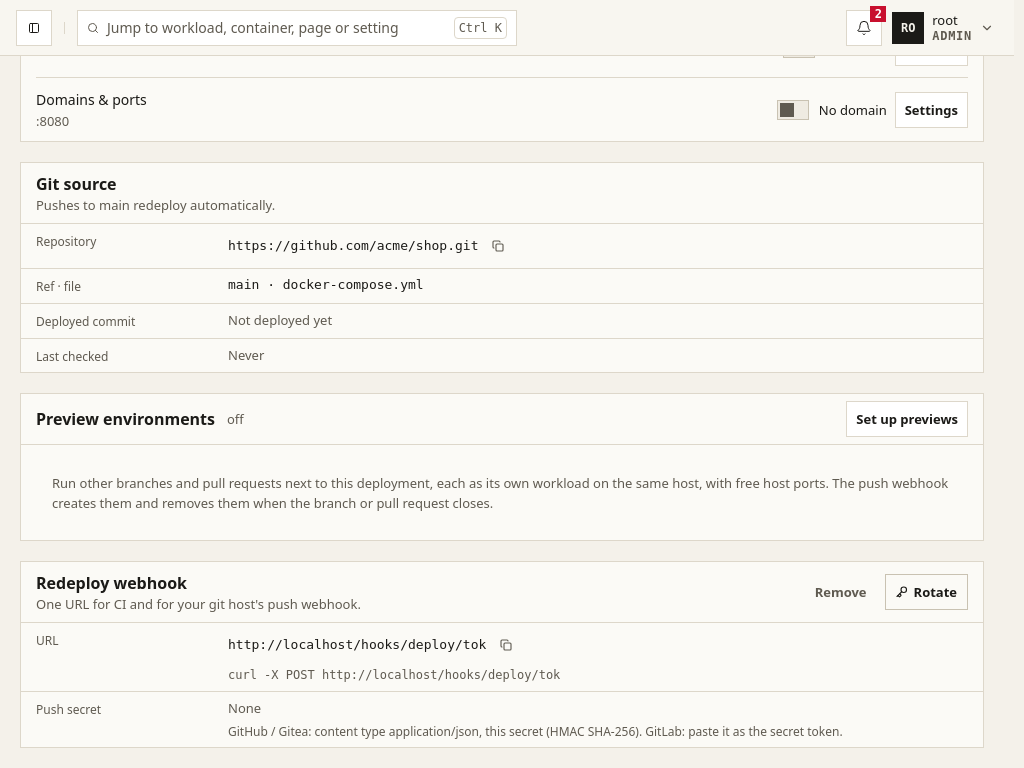
Scenario: preview environments panel › sets previews up, keeping the rest of the git source
This screenshot has width=1024, height=768.
(page scrolled)
Check: the text "Run other branches and pull requests" is shown, box [52,474,948,512]
Check: the text "off" is shown, box [227,409,244,429]
Click the button "Set up previews" at (907, 419), box [846,401,968,437]
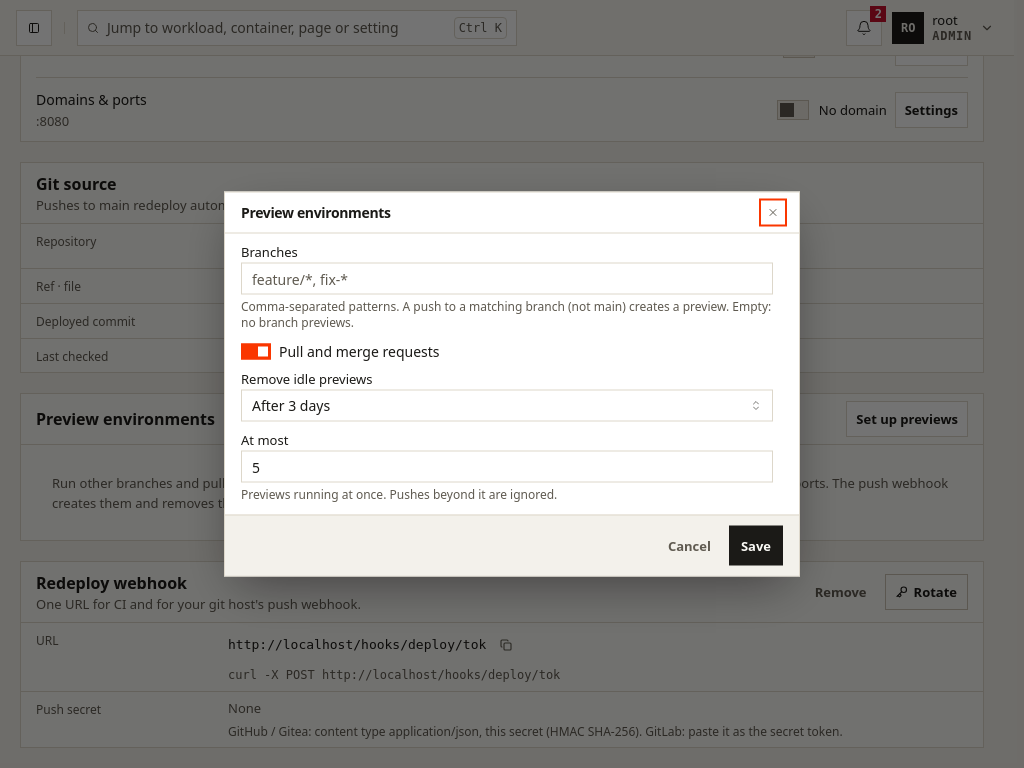
Click the switch labelled "Pull and merge requests" at (340, 351), box [241,342,440,360]
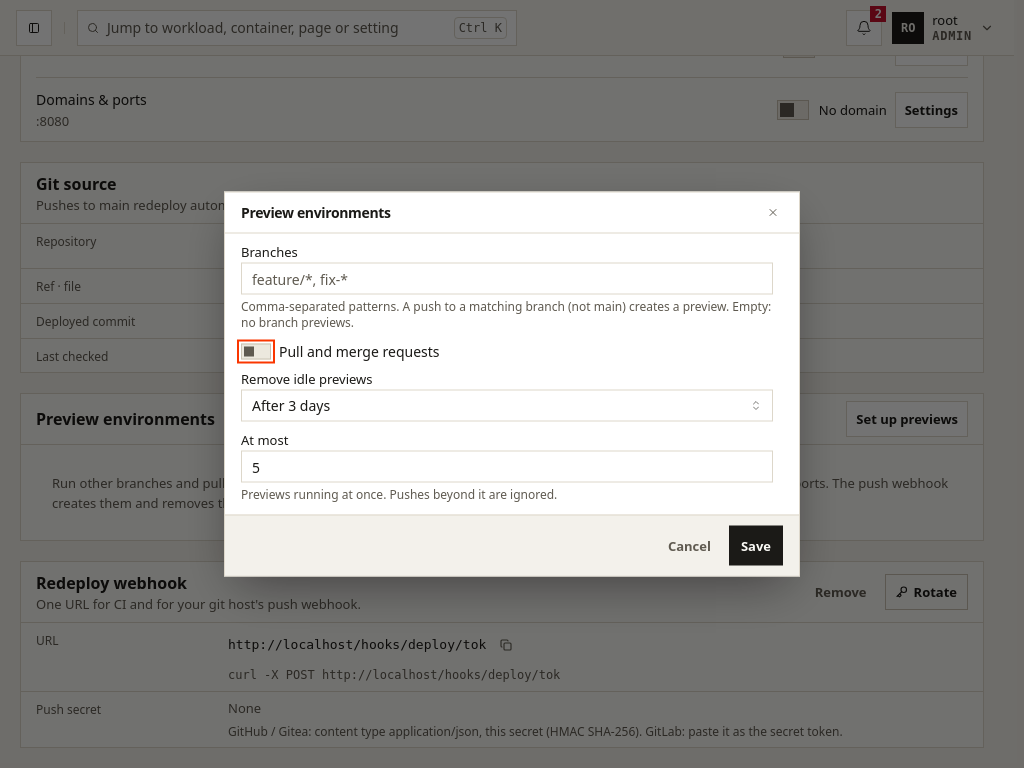
Click the button "Save" at (756, 546), box [729,526,783,566]
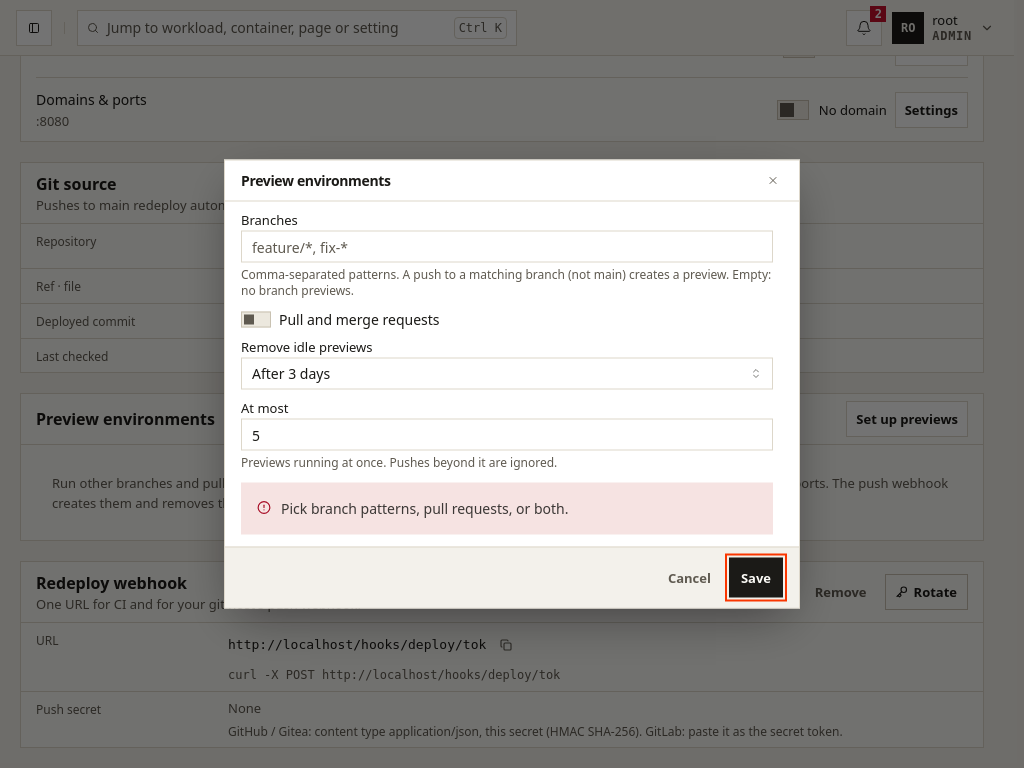
Check: the text "Pick branch patterns, pull requests, or both." is shown, box [281,498,568,518]
Type " feature/*, fix-* " into the field labelled "Branches" at (507, 246), box [241,230,773,262]
Click the dropdown named "Remove idle previews" at (291, 373), box [241,358,773,390]
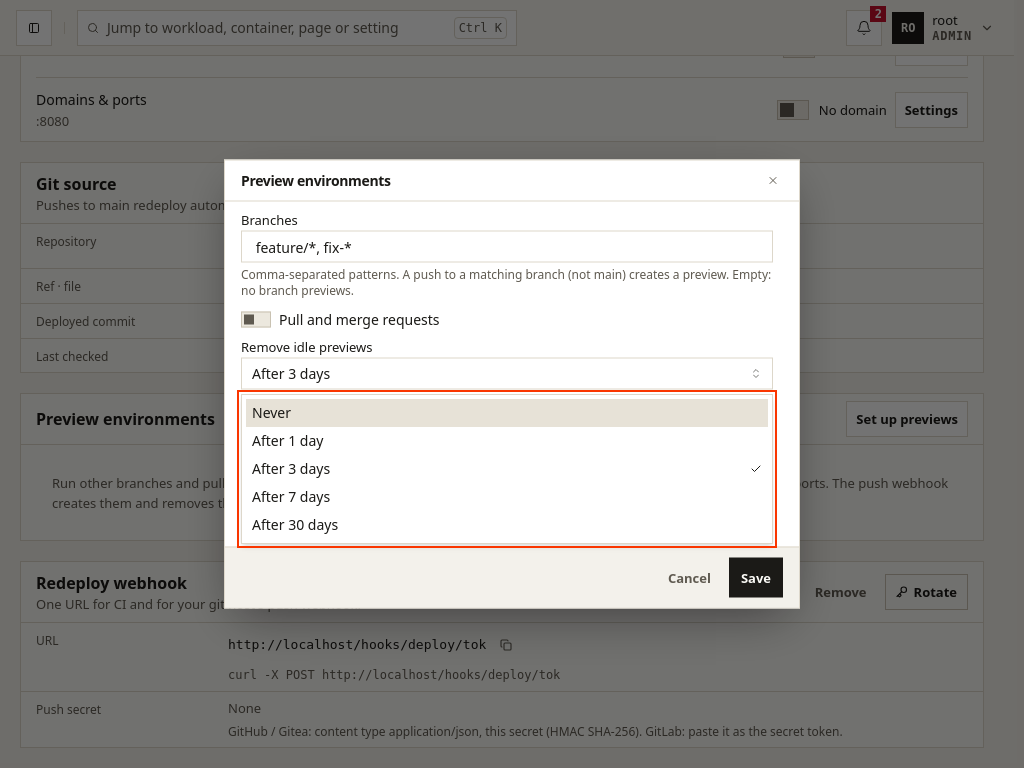
Click the option "After 7 days" at (291, 496), box [252,487,330,506]
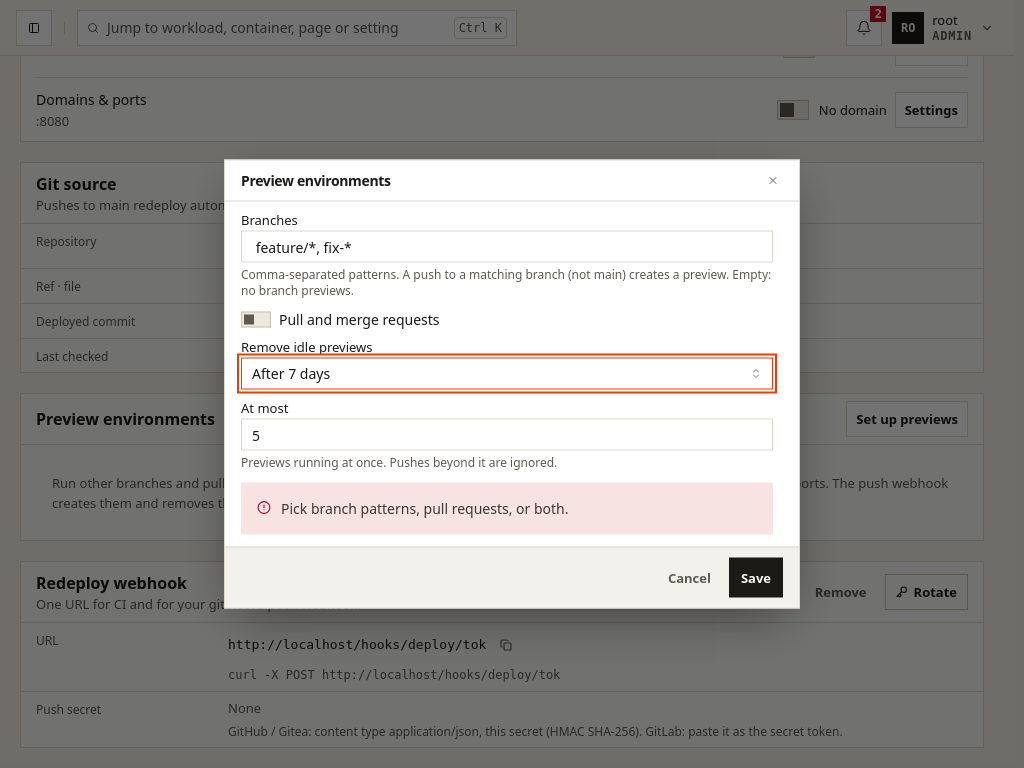
Click the button "Save" at (756, 578), box [729,558,783,598]
(page scrolled)
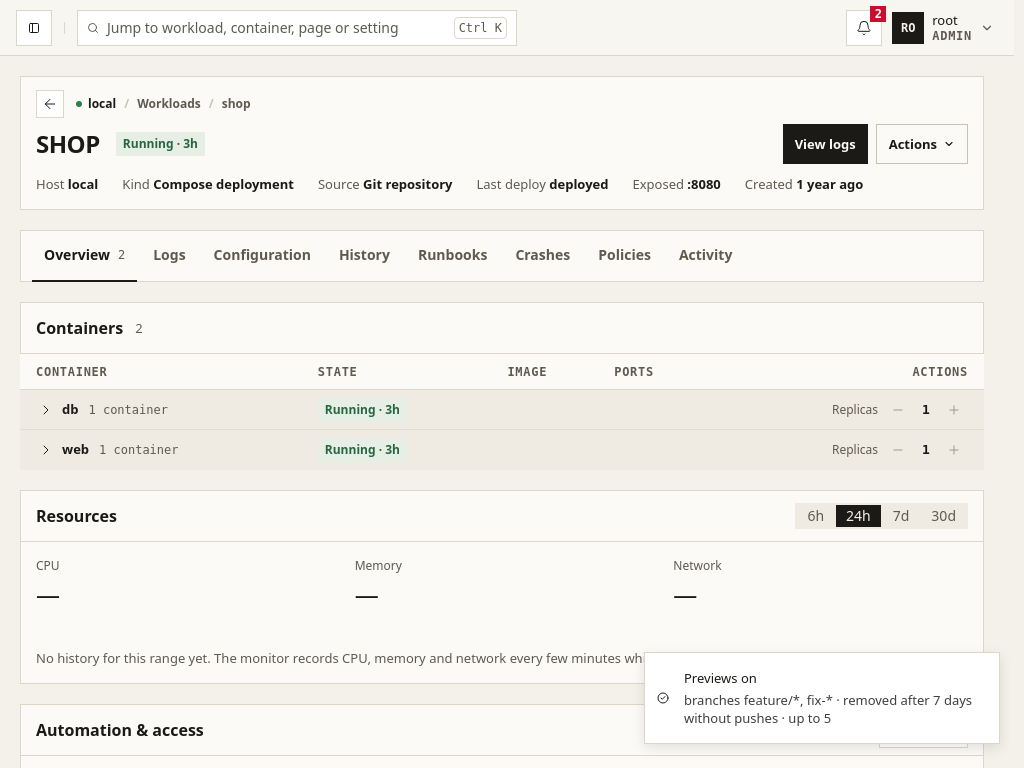
Check: the text "Previews on" is shown, box [684,669,757,687]
Check: the text "shop" is shown, box [222,94,251,114]
